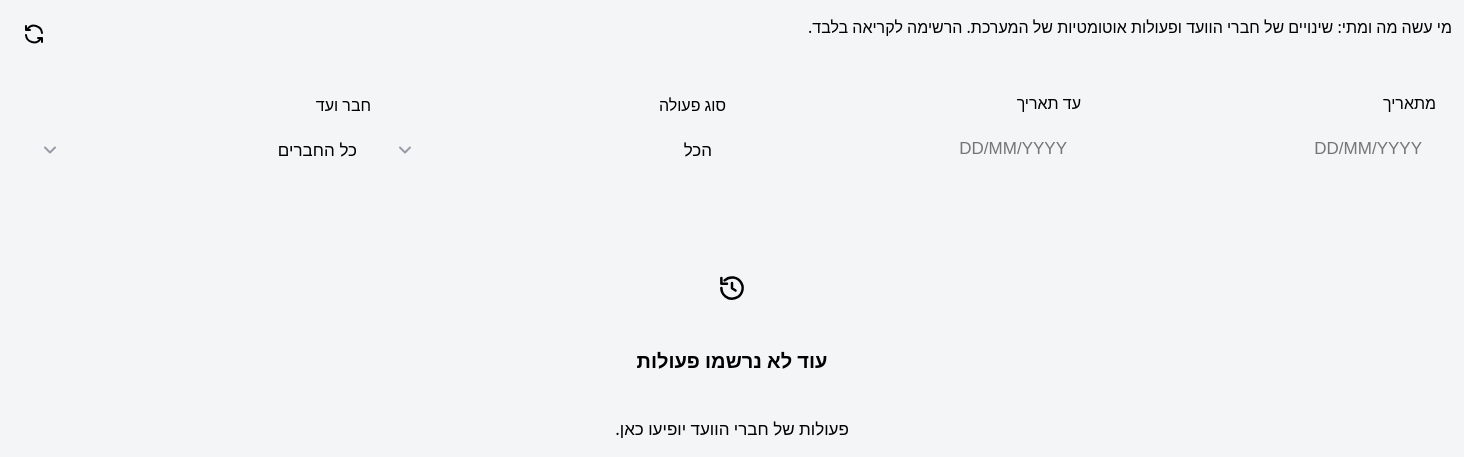
Test case: an empty log, and one that could not load › says that nothing was found, when a filter is on
Expected: the heading "עוד לא נרשמו פעולות" is shown, [637,347,827,374]
Select "נוכחות" in the dropdown labelled "סוג פעולה". click: (554, 150)
box: [383,124,726,176]
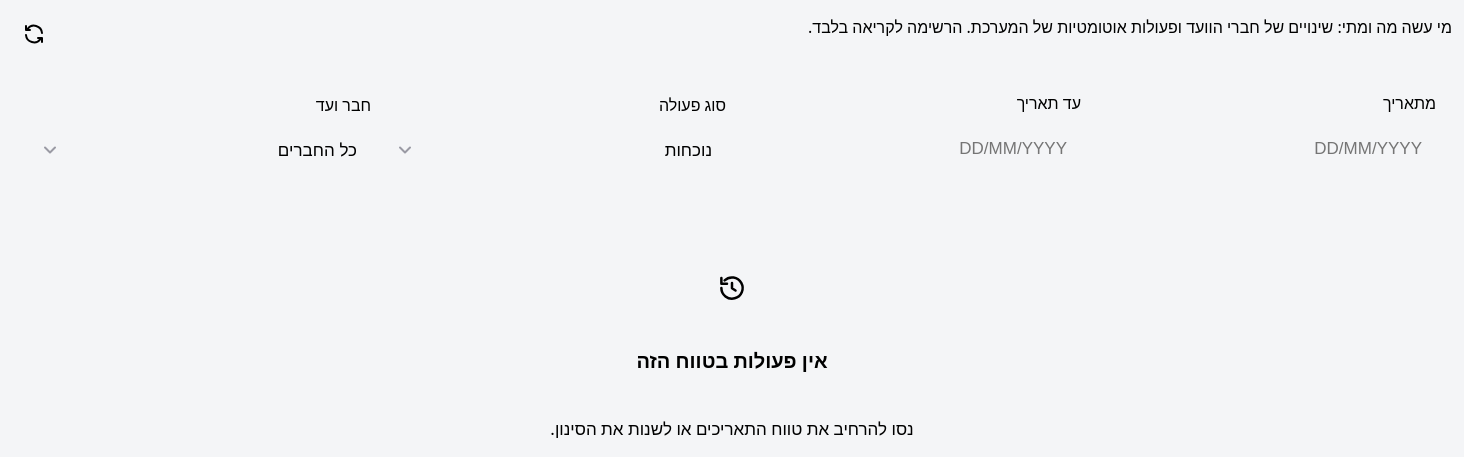
Result: the heading "אין פעולות בטווח הזה" is shown at [636,347,828,374]
Result: the text "נסו להרחיב את טווח התאריכים או לשנות את הסינון." is shown at [550,417,914,440]
